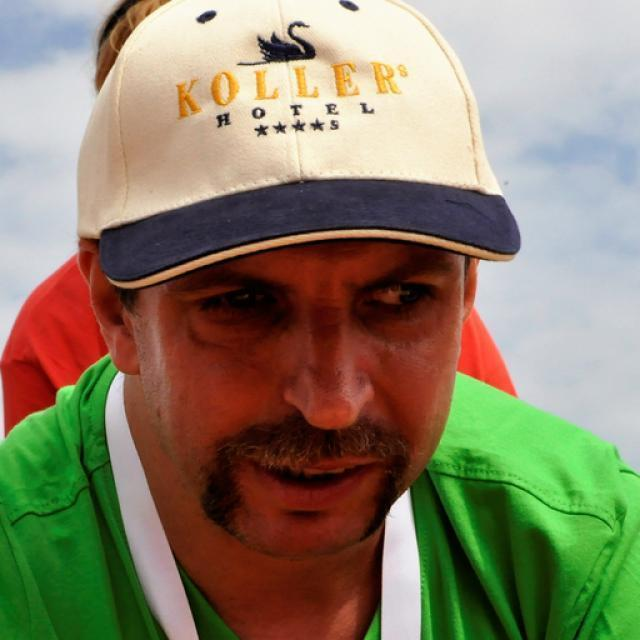3_gorra: (77, 0, 519, 287)
